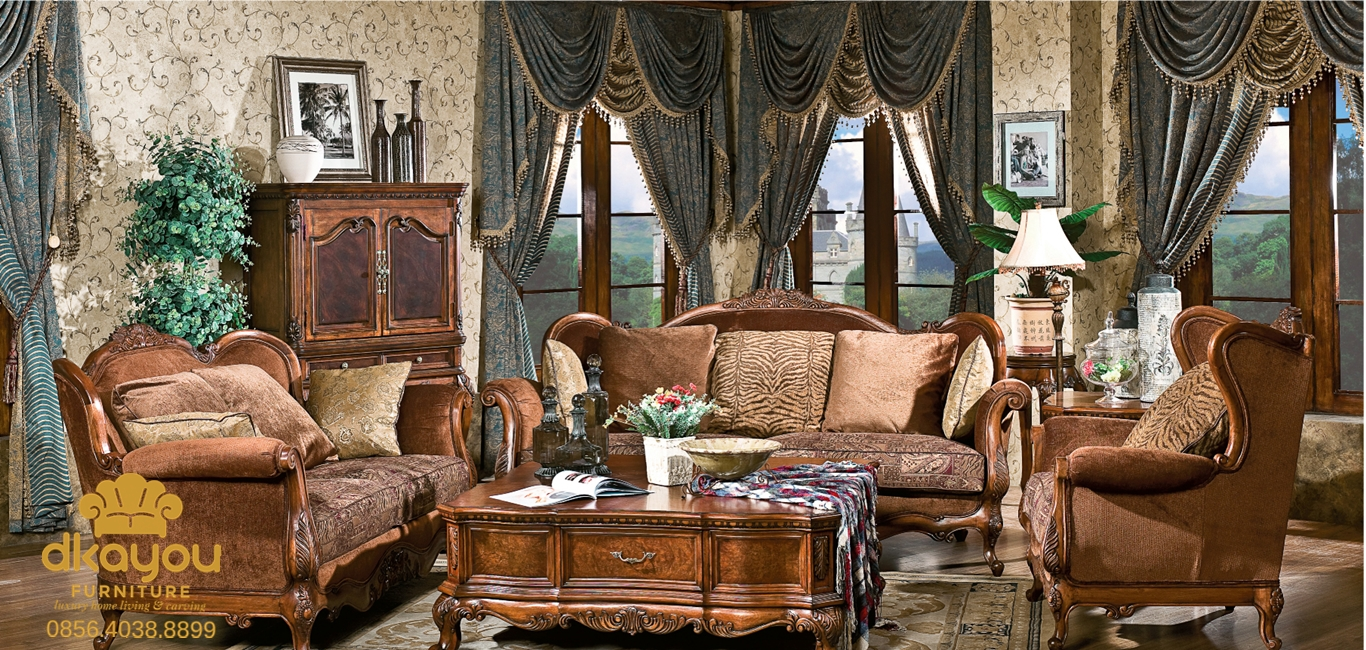bantal: (193, 350, 334, 472), (716, 322, 826, 431), (1123, 355, 1230, 464), (304, 360, 412, 457), (832, 326, 924, 432), (602, 323, 708, 414), (540, 335, 593, 433)
buku: (491, 469, 651, 516)
foto: (263, 53, 376, 178), (993, 108, 1069, 204)
lampu: (998, 206, 1086, 355)
meja: (432, 463, 883, 648)
sova: (49, 316, 465, 639), (1026, 309, 1305, 648), (554, 311, 1010, 479)
tanaman: (121, 131, 255, 343), (988, 200, 1081, 356), (631, 382, 698, 484)
